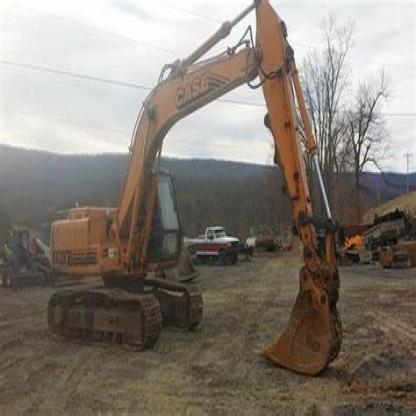excavator: (40, 2, 342, 384)
